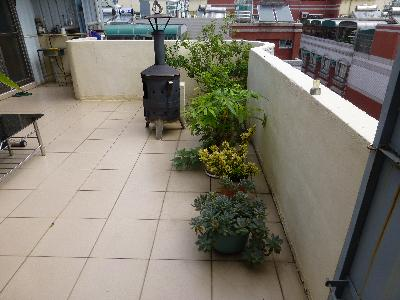bucket: (139, 65, 182, 126)
